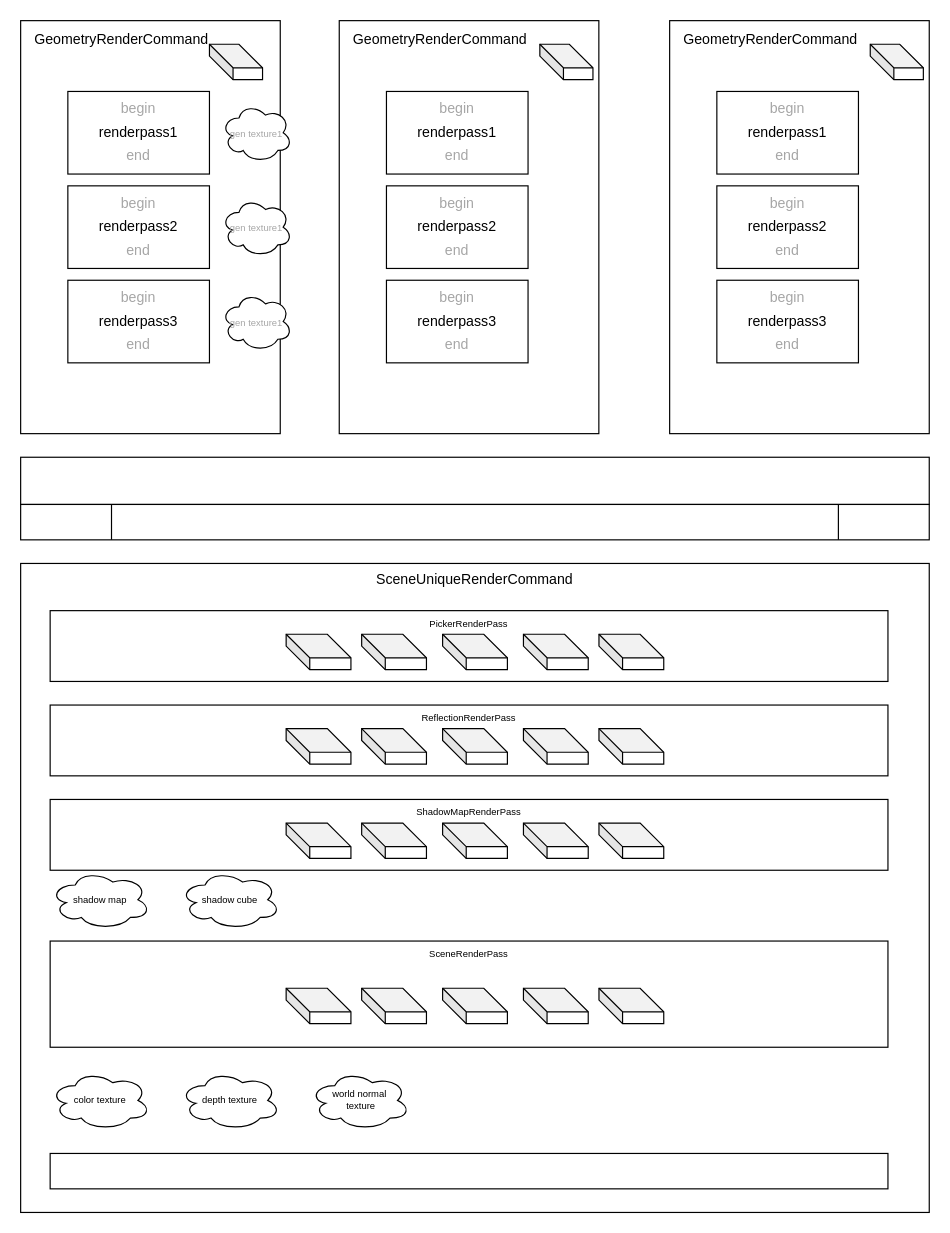
Image size: 950x1233. Some labels were removed from this diagram. The shapes that lost their labels are listed below. From the top down, each one's centre as x and y in pixels, then its label:
At [474,480]: "queue.submit(n, &command)".
At [474,521]: "sync".
At [468,1170]: "PostProcessingRenderPass".
